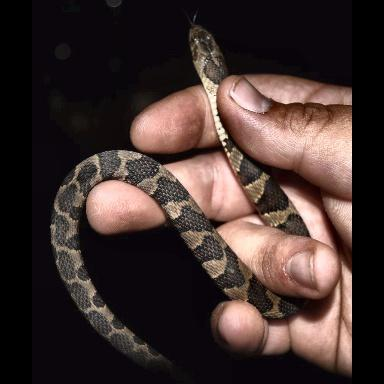snake: (50, 150, 299, 379), (189, 25, 309, 238)
